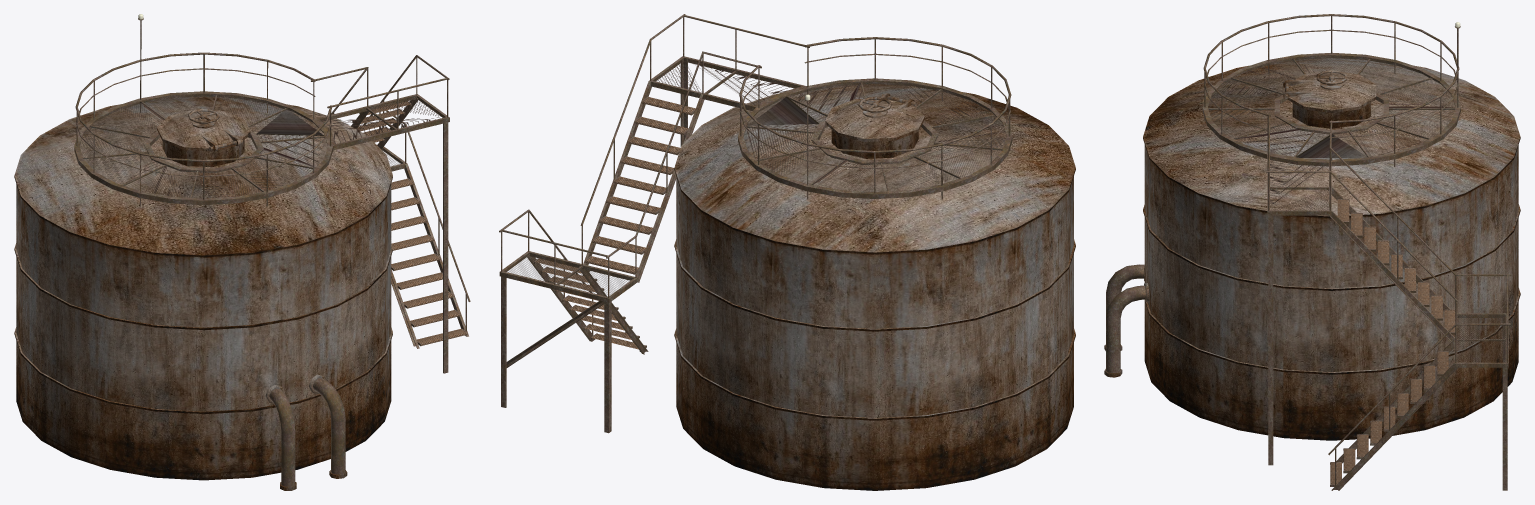
Rendered from old_oil_tank.glb.
3 views of the same model, side by side, from view 1: azimuth 30°, elevation 25°; view 2: azimuth 150°, elevation 25°; view 3: azimuth 270°, elevation 25° (orthographic). The views are drawn at different scales.
Visible parts, largest first — view 1: Material3 (×2), Material2 (×2); view 2: Material3 (×2), Material2 (×2); view 3: Material3 (×2), Material2 (×2).
Boxes of the visible parts, x1=… form: Material3 (×2): x1=14, y1=96, x2=466, y2=490; Material2 (×2): x1=74, y1=18, x2=470, y2=486; Material3 (×2): x1=535, y1=84, x2=1075, y2=490; Material2 (×2): x1=499, y1=14, x2=1012, y2=433; Material3 (×2): x1=1104, y1=58, x2=1520, y2=484; Material2 (×2): x1=1106, y1=14, x2=1510, y2=490.
Size of the model in its own units: 397 by 301 by 334.
Materials: 7 (4 with a texture image).
